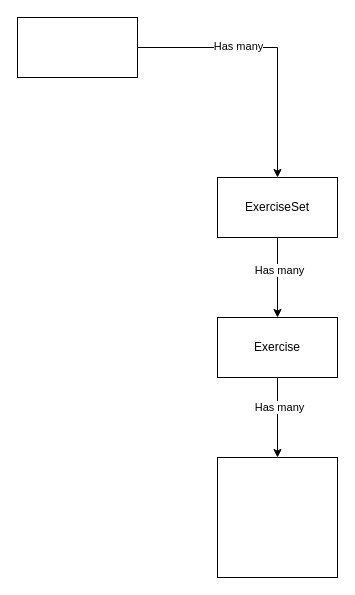
Some shapes in this 355 by 595 pixel diagram are drawn without their labels. Here are the shapes that lost their labels. From the top down, the centre of each, then its label:
At point (77, 47): "Section".
At point (277, 517): "ExerciseAnswer (unique by exercise_id & user_id)".
